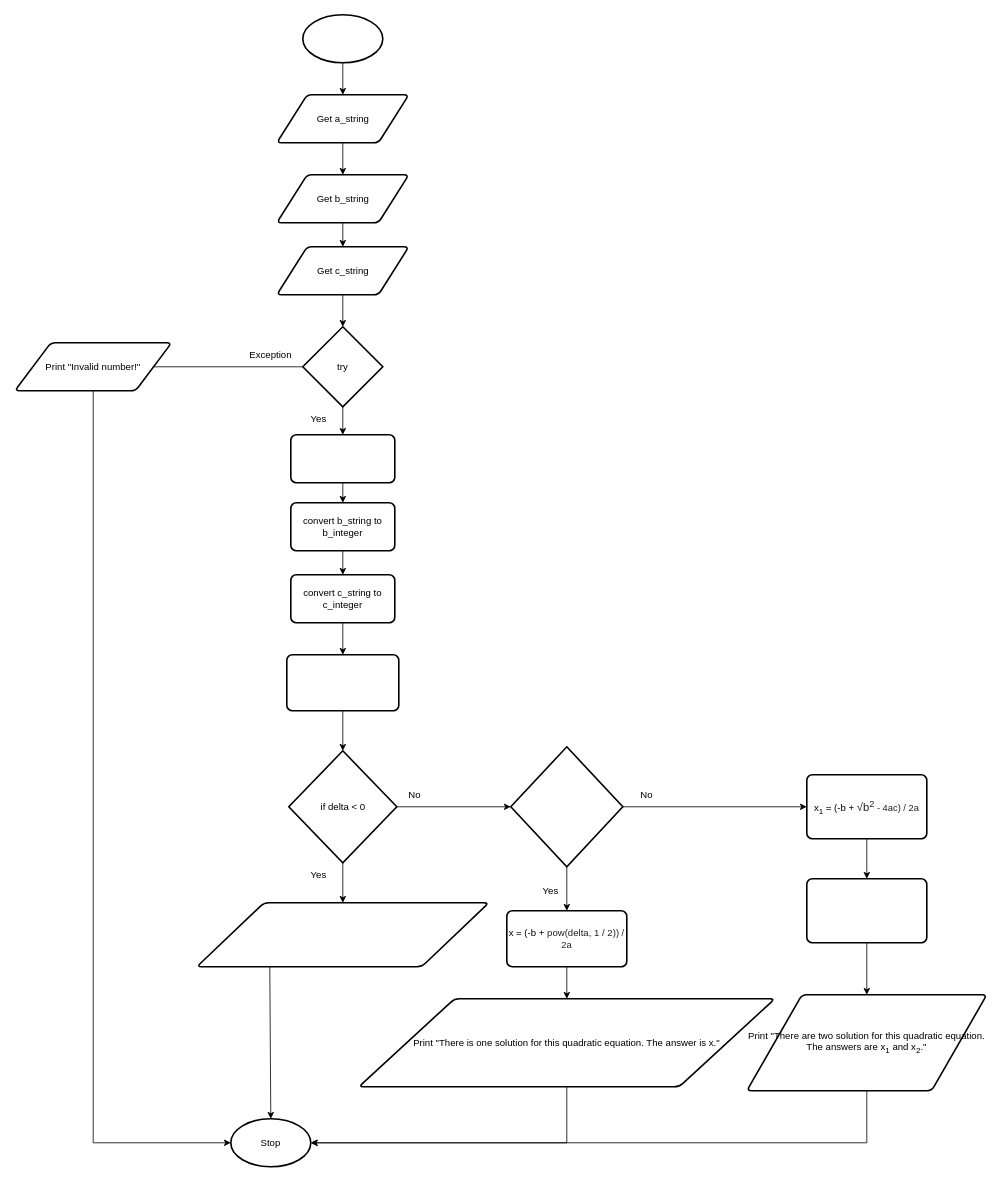
The diagram is 1001 pixels wide and 1181 high, and some of its shapes have lost their labels. The centre of each missing label's shape, as x and y in pixels:
convert a_string to a_integer: (x=342, y=458)
delta = b_integer 2 - 4 * a_integer * c_integer: (x=342, y=682)
If delta == 0: (x=566, y=806)
Print "No real solutions for this quadratic equation!": (x=342, y=934)
Start: (x=342, y=38)
x 2 = (-b - √b 2 - 4ac) / 2a: (x=866, y=910)
